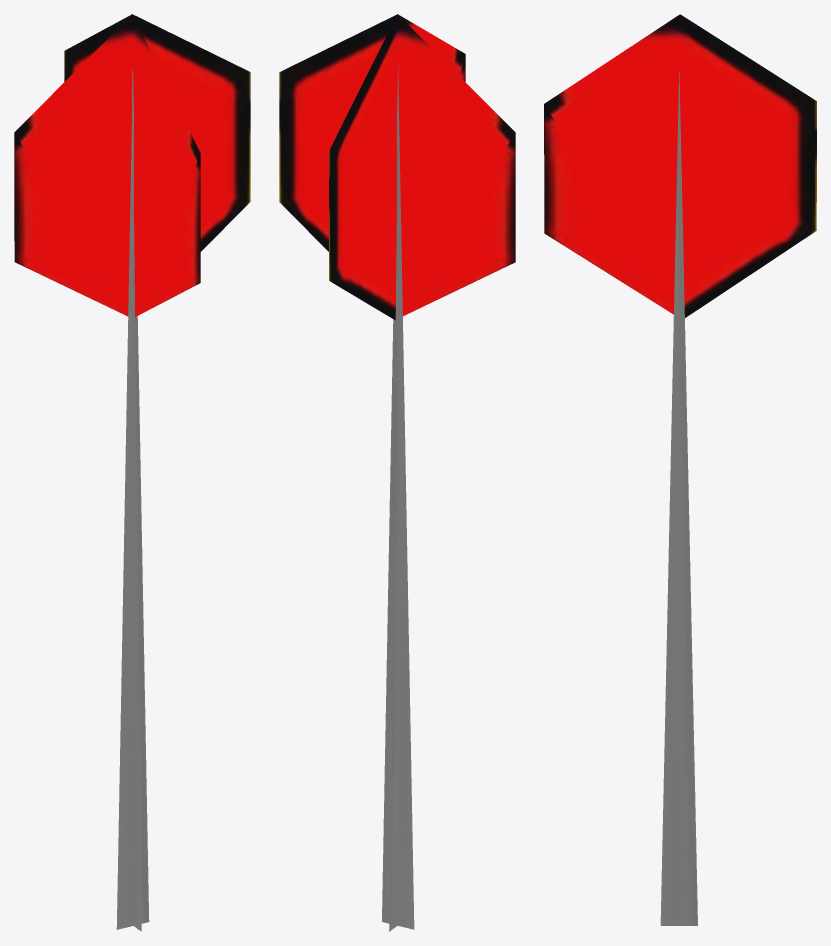
Rendered from stopsign_hdtex.glb.
3 views of the same model, side by side, from view 1: azimuth 30°, elevation 25°; view 2: azimuth 150°, elevation 25°; view 3: azimuth 270°, elevation 25° (orthographic).
Visible parts, largest first — view 1: stopsign; view 2: stopsign; view 3: stopsign.
Boxes of the visible parts, box(x1,y1,x2,y2) form: stopsign: box(14, 14, 250, 931); stopsign: box(279, 14, 515, 931); stopsign: box(544, 14, 816, 925).
Size of the model in its own units: 0.7682 by 2.83 by 0.7682.
Materials: 1 (1 with a texture image).
